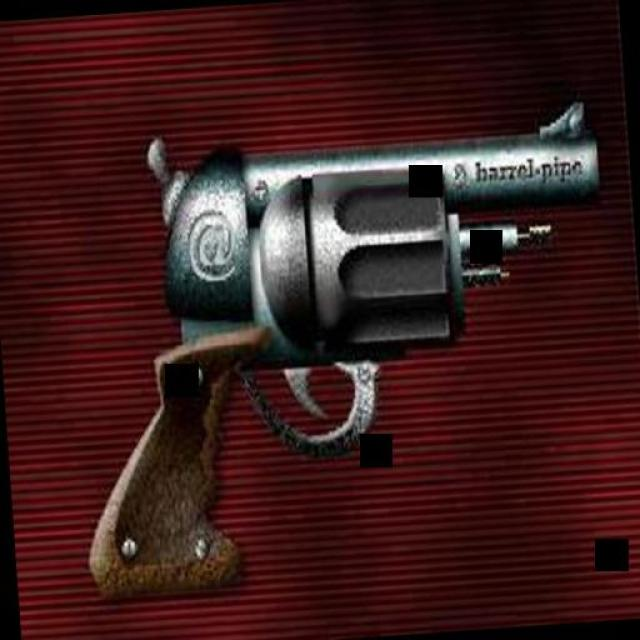gun: (41, 102, 631, 608)
